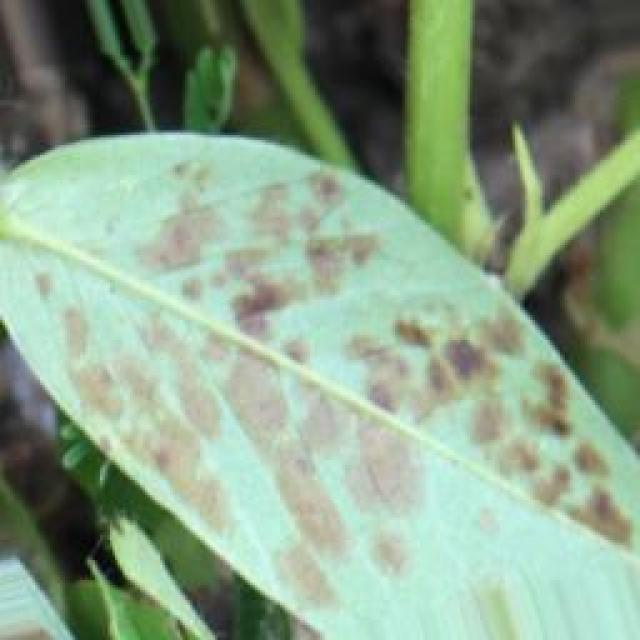Whitefly: (0, 114, 640, 640)
